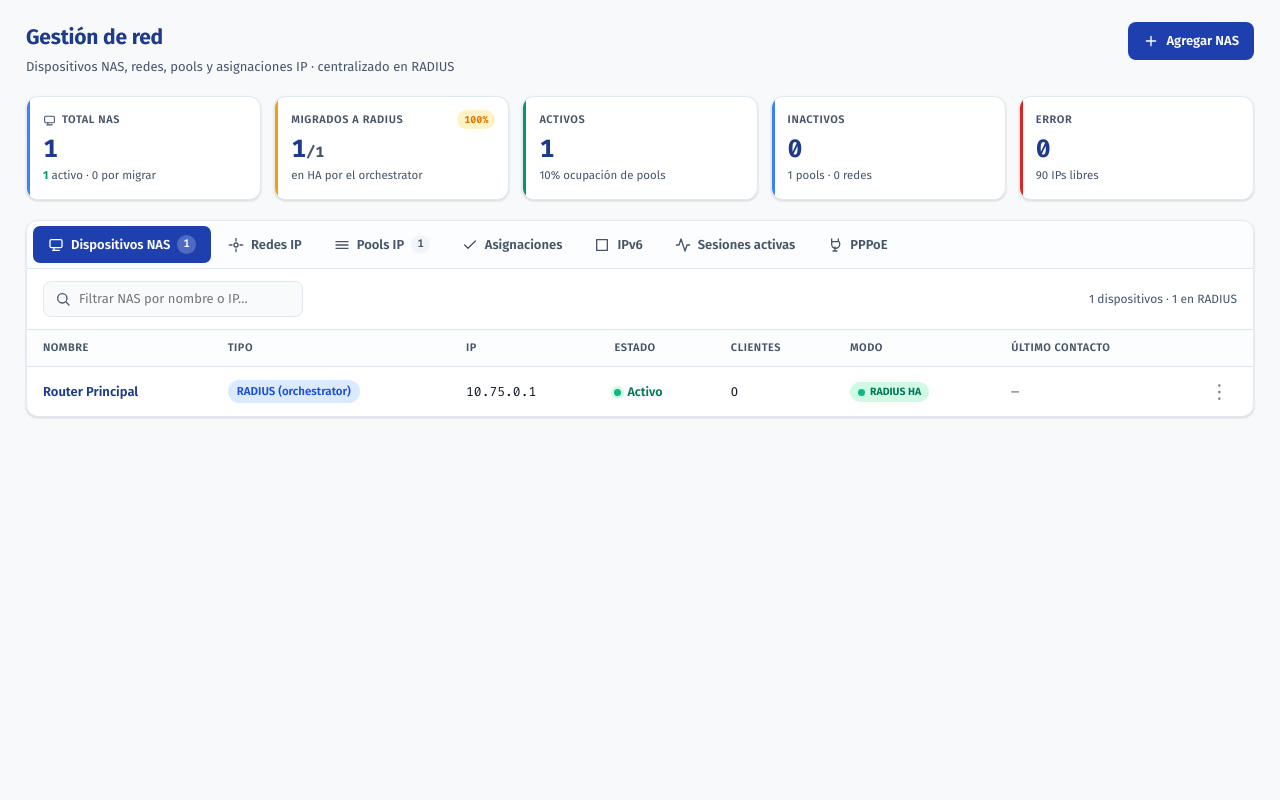
Test: GestionRedPage — Tab Pools IP › P-2: grupos colapsables › re-expandir muestra las filas de nuevo
This screenshot has width=1280, height=800.
What coordinates should you click on to do the following:
click the button "Pools IP 1"
I would click on:
 (382, 245)
Its box is [319, 226, 445, 263].
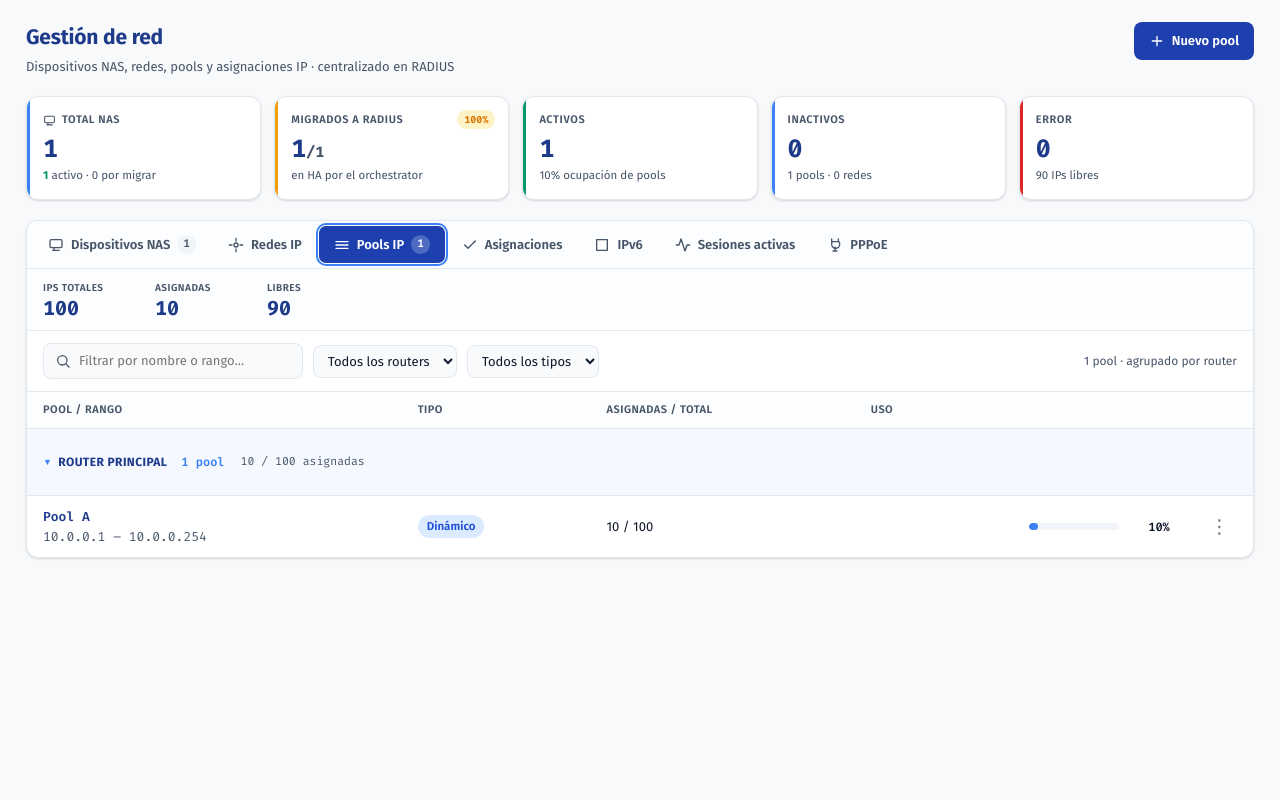
What coordinates should you click on to do the following:
click the button with aria-label "Colapsar grupo"
I would click on:
 (134, 462)
Its box is [43, 440, 224, 484].
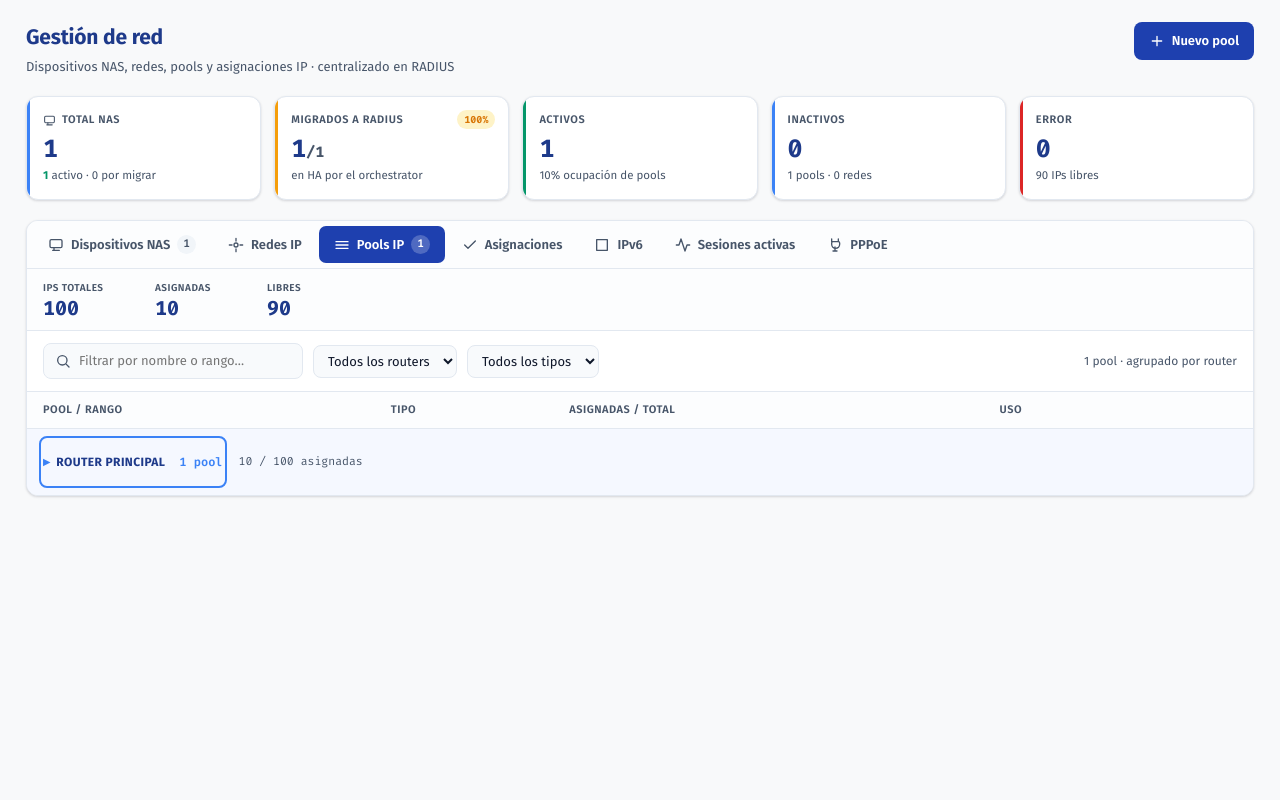
What coordinates should you click on to do the following:
click the button with aria-label "Expandir grupo"
I would click on:
 (133, 462)
Its box is [43, 440, 223, 484].
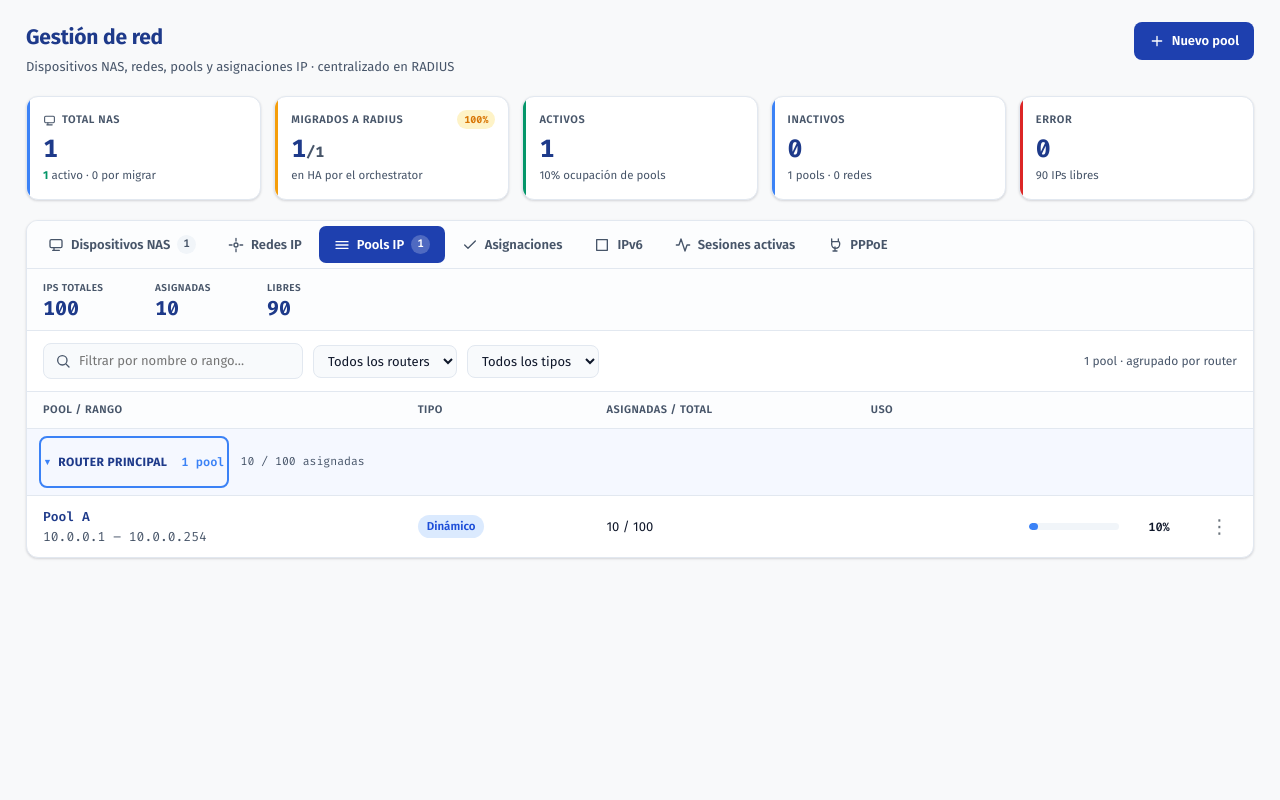
Check: the text "Pool A" is shown, box [43, 508, 90, 525]
